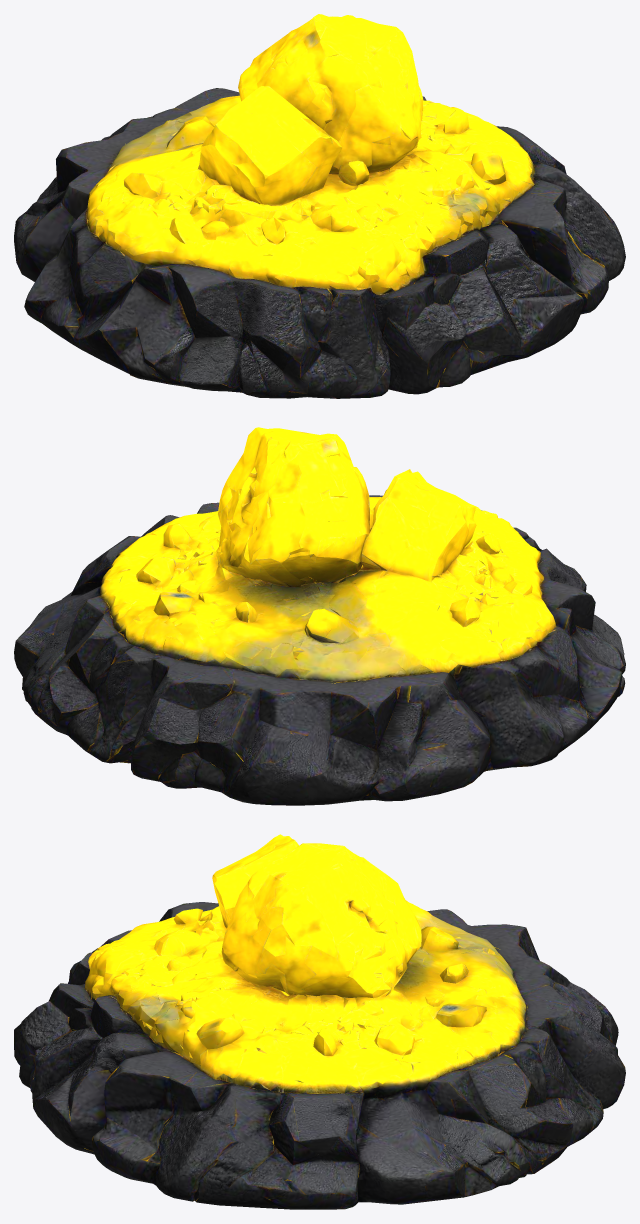
The model's file is min3-sulphur-final.glb.
The picture shows the model from 3 angles, top to bottom: view 1: azimuth 30°, elevation 25°; view 2: azimuth 150°, elevation 25°; view 3: azimuth 270°, elevation 25°; orthographic projection.
Parts seen in each view (by area): view 1: Mesh_0; view 2: Mesh_0; view 3: Mesh_0.
Part boxes in pixels (<box>): Mesh_0: <box>14,14,625,398</box>; Mesh_0: <box>14,427,625,805</box>; Mesh_0: <box>14,834,625,1209</box>.
Bounding box in the file's own units: 3.36 × 1.5 × 3.36.
1 material, 1 textured.
